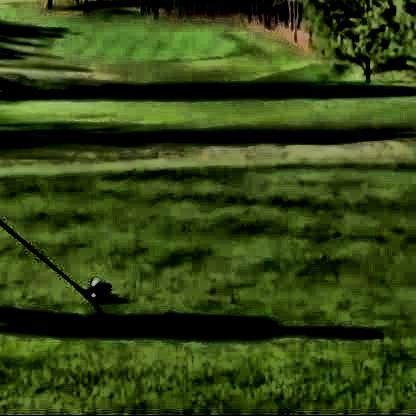golfball: (89, 276, 108, 294)
